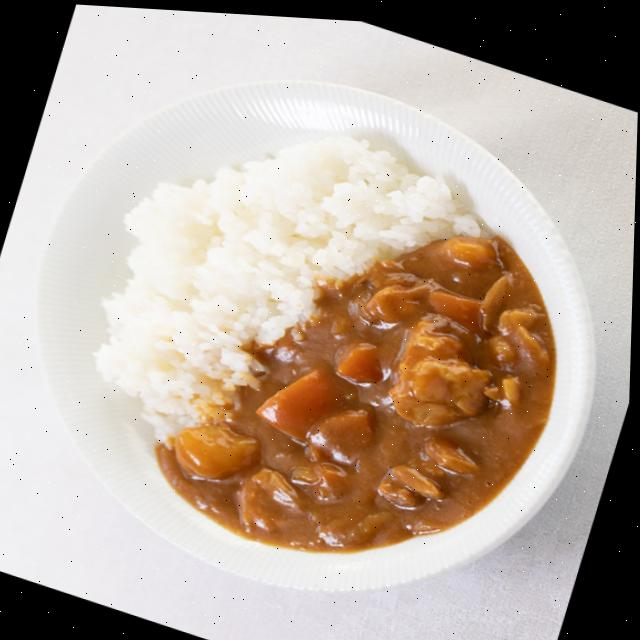Wet: (45, 61, 614, 617)
